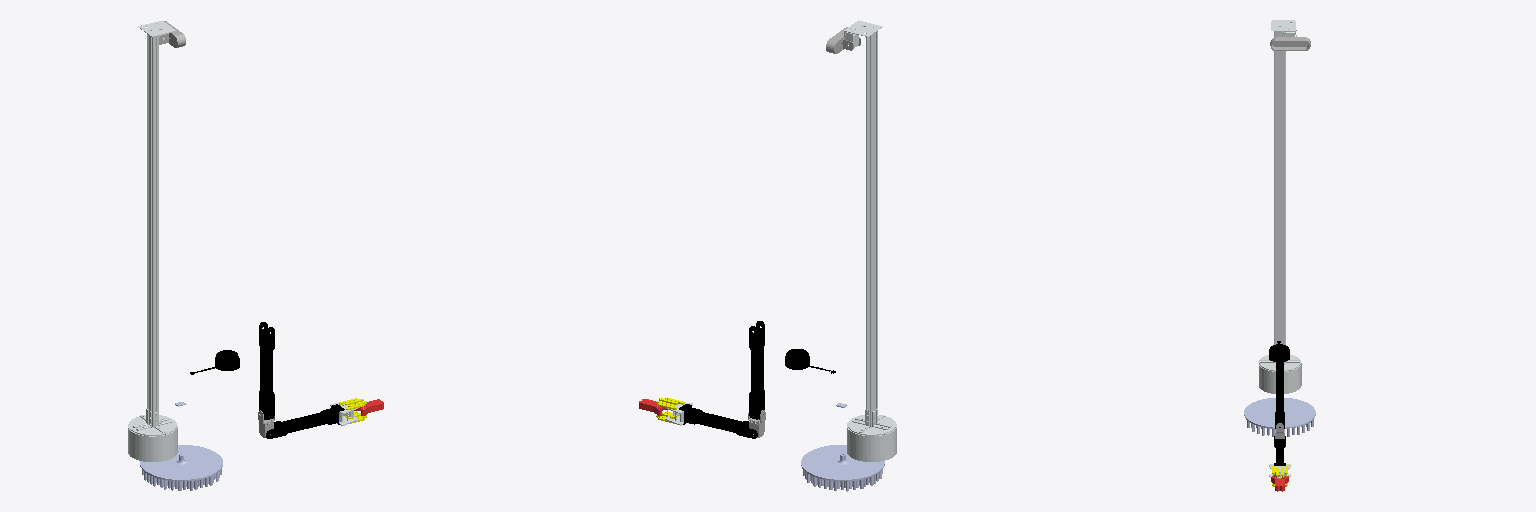
--- Render facts (derived) ---
3 views of the same robot in one strip: view 1: azimuth 30°, elevation 25°; view 2: azimuth 150°, elevation 25°; view 3: azimuth 270°, elevation 25° (orthographic).
Robot: saclebot — 34 links, 33 joints (11 revolute, 5 continuous, 1 prismatic, 16 fixed); root link base_footprint; default pose: every joint at zero.
Visible links, largest first — view 1: shoulder_link, mop_link, R1_link, base_manipulator, R3_link; view 2: shoulder_link, mop_link, R1_link, base_manipulator, R3_link; view 3: shoulder_link, mop_link, base_manipulator, R1_link, camera_head_link.
Boxes of the visible links, left/top/right/bottom form: shoulder_link: left=129, top=21, right=176, bottom=435; mop_link: left=140, top=445, right=222, bottom=490; R1_link: left=259, top=322, right=274, bottom=419; base_manipulator: left=128, top=424, right=177, bottom=461; R3_link: left=266, top=404, right=344, bottom=438; shoulder_link: left=844, top=20, right=895, bottom=435; mop_link: left=801, top=445, right=884, bottom=491; R1_link: left=749, top=321, right=764, bottom=419; base_manipulator: left=847, top=423, right=896, bottom=461; R3_link: left=679, top=404, right=757, bottom=438; shoulder_link: left=1259, top=20, right=1300, bottom=371; mop_link: left=1244, top=398, right=1315, bottom=436; base_manipulator: left=1259, top=360, right=1301, bottom=393; R1_link: left=1273, top=347, right=1286, bottom=428; camera_head_link: left=1270, top=35, right=1310, bottom=50.
Bounding box of the posed robot: 0.8707 × 0.2499 × 1.49 m (x, y, z).
Meshes: 23 distinct files referenced, 16 mesh visuals loaded (16 binary STL); not drawn: 7 (reference not matched to a file when rendering).

The robot description file, URDF, robot "saclebot":
<?xml version="1.0" encoding="utf-8"?>
<!-- URDF FILE GENERATED USING SOLIDWORKS TO URDF PLUGIN-->
<!-- MAINTAINER OF THESE FILES - SaCleBot Team - DIAT-->
<robot name="saclebot">
                                        <!-- SaCleBot Main Assembly - Base link -->
  <link name="base_footprint"/>
  <joint name="base_joint" type="fixed">
    <parent link="base_footprint"/>
    <child link="base_link"/>
    <origin xyz="0 0 0.2575" rpy="0 0 0"/>
  </joint>
  <link name="base_link"> <!-- 2 -->
    <inertial>
      <origin xyz="0.0030962 -0.0067056 -0.034909" rpy="0 0 0" />
      <mass value="9.1505" />
      <inertia ixx="0.10727" ixy="2.8724E-08" ixz="-1.4758E-09" iyy="0.12749" iyz="-1.5157E-09" izz="0.22263" />
    </inertial>
    <visual>
      <origin xyz="0 0 0" rpy="0 0 0" />
      <geometry>
        <mesh filename="package://saclebot_description/meshes/base_link.STL" />
      </geometry>
      <material name="">
        <color rgba="0.75294 0.75294 0.75294 1" />
      </material>
    </visual>
    <collision>
      <origin xyz="0 0 0" rpy="0 0 0" />
      <geometry>
        <mesh filename="package://saclebot_description/meshes/base_link.STL" />
      </geometry>
    </collision>
  </link>
  
                                        <!-- SaCleBot Main Assembly -  manipulator base -->
  <link name="base_manipulator">
    <inertial>
      <origin xyz="3.6943E-05 -0.00021046 -0.054473" rpy="0 0 0" />
      <mass value="2.0728" />
      <inertia ixx="0.0050084" ixy="-1.9505E-06" ixz="-7.9094E-08" iyy="0.0050061" iyz="-1.4746E-07" izz="0.0079066" />
    </inertial>
    <visual>
      <origin xyz="0 0 0" rpy="0 0 0" />
      <geometry>
        <mesh filename="package://saclebot_description/meshes/base_manipulator.STL" />
      </geometry>
      <material name="">
        <color rgba="0.90196 0.92157 0.92157 1" />
      </material>
    </visual>
    <collision>
      <origin xyz="0 0 0" rpy="0 0 0" />
      <geometry>
        <mesh filename="package://saclebot_description/meshes/base_manipulator.STL" />
      </geometry>
    </collision>
  </link>
  <joint name="base_manipulator_joint" type="fixed">
    <origin xyz="-0.1 -0.0074 -0.041" rpy="0 0 0" />
    <parent link="base_link" />
    <child link="base_manipulator" />
    <axis xyz="0 0 0" />
  </joint>
  
                                    <!-- SaCleBot Main Assembly - Shoulder Link-->
  <link name="shoulder_link">
    <inertial>
      <origin xyz="0.002613 0.0018963 0.57866" rpy="0 0 0" />
      <mass value="1.3656" />
      <inertia ixx="0.14581" ixy="-2.7441E-08" ixz="4.5549E-07" iyy="0.14569" iyz="2.9831E-07" izz="0.00073562" />
    </inertial>
    <visual>
      <origin xyz="0 0 0" rpy="0 0 0" />
      <geometry>
        <mesh filename="package://saclebot_description/meshes/shoulder_link.STL" />
      </geometry>
      <material name="">
        <color rgba="0.90196 0.92157 0.92157 1" />
      </material>
    </visual>
    <collision>
      <origin xyz="0 0 0" rpy="0 0 0" />
      <geometry>
        <mesh filename="package://saclebot_description/meshes/shoulder_link.STL" />
      </geometry>
    </collision>
  </link>
  <joint name="shoulder_joint" type="revolute"> 
    <origin xyz="0 0 0" rpy="0 0 0" />
    <parent link="base_manipulator" />
    <child link="shoulder_link" />
    <axis xyz="0 0 1" />
    <limit lower="0" upper="6.28" effort="10" velocity="2" />
  </joint>
<!--                     SaCleBot Main Assembly -                       camera head link                                          - intel real sense D345i-->
  <link name="camera_head_link">
    <inertial>
      <origin xyz="0.0266863314036889 2.22044604925031E-16 0.000112026493455208" rpy="0 0 0" />
      <mass value="0.0867391775901734" />
      <inertia ixx="0.000139401310926024" ixy="1.19728462381674E-19" ixz="2.39021978287873E-07" iyy="0.000132604783307983" iyz="1.22825734973613E-18" izz="2.39344942681729E-05" />
    </inertial>
    <visual>
      <origin xyz="0 0 0" rpy="0 0 0" />
      <geometry>
        <mesh filename="package://saclebot_description/meshes/camera_head_link.STL" />
      </geometry>
      <material name="">
        <color rgba="0.75294 0.75294 0.75294 1" />
      </material>
    </visual>
    <collision>
      <origin xyz="0 0 0" rpy="0 0 0" />
      <geometry>
        <mesh filename="package://saclebot_description/meshes/camera_head_link.STL" />
      </geometry>
    </collision>
  </link>
  <joint name="camera_head_joint" type="revolute"> 
    <origin xyz="0.0475 0.036858 1.2585" rpy="1.5708 0 0" /> <!-- rpy 1.5708-->
    <parent link="shoulder_link" />
    <child link="camera_head_link" />
    <axis xyz="0 0 1" /> <!-- axis -1-->
    <limit
      lower="0"
      upper="1.5708"
      effort="1"
      velocity="1" />
  </joint>
  <!-- camera_link-->
  <link name="camera_screw_frame"/>
  <link name="realsense2_link">
    <inertial>
      <origin xyz="0.00162770944218829 0.00168231639481042 2.480462200527E-06" rpy="0 0 0" />
      <mass value="0.0381911724616097" />
      <inertia ixx="2.3573741102575E-05" ixy="4.51124222897415E-08" ixz="-1.30125577859982E-08" iyy="2.11168828929749E-06" iyz="-8.02388134840679E-09" izz="2.22571079918049E-05" />
    </inertial>
    <visual>
      <origin xyz="0 0 0" rpy="0 0 0" />
      <geometry>
        <mesh filename="package://saclebot_description/meshes/camera_link.dae" />
      </geometry>
      <material
        name="">
        <color rgba="0.752941176470588 0.752941176470588 0.752941176470588 1" />
      </material>
    </visual>
    <collision>
      <origin xyz="0 0 0" rpy="0 0 0" />
      <geometry>
        <mesh filename="package://saclebot_description/meshes/camera_link.dae" />
      </geometry>
    </collision>
  </link>
  
  <joint name="camera_screw_joint" type="fixed">
    <origin xyz="0.041 0 0" rpy = "-1.57079632679491 0 0"/>
    <parent link="camera_head_link"/>
    <child link="camera_screw_frame"/>
  </joint>
  
  <joint name="camera_joint" type="fixed">
    <origin xyz="0 0 0" rpy="0 0 0" />
    <parent link="camera_screw_frame" />
    <child link="realsense2_link" />
    <axis xyz="0 0 0" />
  </joint>
  
  <link name="realsense2_depth_frame" />
  
  <joint name="realsense2_depth_joint" type="fixed">
    <origin xyz="0 0.0175 0" rpy="0 0 0"/>
    <parent link="realsense2_link"/>
    <child link="realsense2_depth_frame"/>
  </joint>
  
  <link name="realsense2_depth_optical_frame" />
  
  <joint name="realsense2_depth_optical_joint" type="fixed">
   <origin xyz="0 0 0" rpy="-1.5708 0 -1.5708"/>
   <parent link="realsense2_depth_frame"/>
   <child link="realsense2_depth_optical_frame"/>
  </joint>
  
  <link name="realsense2_left_ir_frame"/>
  
  <joint name="realsense2_left_ir_joint" type ="fixed">
    <origin xyz = "0 0 0" rpy = "0 0 0"/>
    <parent link="realsense2_depth_frame"/>
    <child link="realsense2_left_ir_frame"/>
  </joint>
  
  <link name="realsense2_left_ir_optical_frame"/>
  
  <joint name="realsense2_left_ir_optical_joint" type ="fixed">
    <origin xyz = "0 0 0" rpy = "-1.5708 0 -1.5708"/>
    <parent link="realsense2_left_ir_frame"/>
    <child link="realsense2_left_ir_optical_frame"/>
  </joint>
  
  <link name="realsense2_right_ir_frame"/>
  
  <joint name="realsense2_right_ir_joint" type ="fixed">
    <origin xyz = "0 -0.050 0" rpy = "0 0 0"/>
    <parent link="realsense2_depth_frame"/>
    <child link="realsense2_right_ir_frame"/>
  </joint>
  
  <link name="realsense2_right_ir_optical_frame"/>
  
  <joint name="realsense2_right_ir_optical_joint" type ="fixed">
    <origin xyz = "0 0 0" rpy = "-1.5708 0 -1.5708"/>
    <parent link="realsense2_right_ir_frame"/>
    <child link="realsense2_right_ir_optical_frame"/>
  </joint>
  
  <link name="realsense2_rgb_frame"/>
  
  <joint name="realsense2_rgb_joint" type ="fixed">
    <origin xyz = "0 0.015 0" rpy = "0 0 0"/>
    <parent link="realsense2_depth_frame"/>
    <child link="realsense2_rgb_frame"/>
  </joint>
  
  <link name="realsense2_rgb_optical_frame"/>
  
  <joint name="realsense2_rgb_optical_joint" type="fixed">
    <origin xyz="0 0 0" rpy = "-1.5708 0 -1.5708"/>
    <parent link = "realsense2_rgb_frame"/>
    <child link = "realsense2_rgb_optical_frame"/>
  </joint>
 
  <link name="realsense2_imu_frame"/>
  <joint name="realsense2_imu_joint" type="fixed">
    <origin xyz="0 0 0" rpy = "0 0 0"/>
    <parent link="realsense2_link"/>
    <child link="realsense2_imu_frame"/>
  </joint>
                                            <!-- SaCleBot Main Assembly - slider link -->
  <link name="slider_link">
    <inertial>
      <origin xyz="0.14315 -0.0088076 -9.8295E-07" rpy="0 0 0" /> 
      <mass value="0.48897" />
      <inertia ixx="0.00048189" ixy="-2.3552E-07" ixz="5.233E-09" iyy="0.0015839" iyz="4.4082E-09" izz="0.001848" />
    </inertial>
    <visual>
      <origin xyz="0 0 0" rpy="0 0 0" />
      <geometry>
        <mesh filename="package://saclebot_description/meshes/slider_link.STL" />
      </geometry>
      <material name="">
        <color rgba="0.75294 0.75294 0.75294 1" />
      </material>
    </visual>
    <collision>
      <origin xyz="0 0 0" rpy="0 0 0" />
      <geometry>
        <mesh filename="package://saclebot_description/meshes/slider_link.STL" />
      </geometry>
    </collision>
  </link>
  <joint name="slider_joint" type="prismatic">
    <origin xyz="0 0.0015673 0.22" rpy="0 0 0" />
    <parent link="shoulder_link" />
    <child link="slider_link" />
    <axis xyz="0 0 1" />
    <limit lower="0.0" upper="1.21" effort="10" velocity="1" />
  </joint>
                                                <!-- SaCleBot Main Assembly -  R1 link-->
  <link name="R1_link">
    <inertial>
      <origin xyz="9.7543E-05 0.15822 -2.0845E-06" rpy="0 0 0" />
      <mass value="0.23058" />
      <inertia ixx="0.00045192" ixy="-2.555E-07" ixz="-5.2331E-09" iyy="6.0722E-05" iyz="-4.4082E-09" izz="0.00043894" />
    </inertial>
    <visual>
      <origin xyz="0 0 0" rpy="0 0 0" />
      <geometry>
        <mesh filename="package://saclebot_description/meshes/R1_link.STL" />
      </geometry>
      <material name="">
        <color rgba="0 0 0 1" />
      </material>
    </visual>
    <collision>
      <origin xyz="0 0 0" rpy="0 0 0" />
      <geometry>
        <mesh filename="package://saclebot_description/meshes/R1_link.STL" />
      </geometry>
    </collision>
  </link>
  <joint name="R1_joint" type="revolute">
    <origin xyz="0.3955 -0.0015673 0" rpy="-1.5708 0 0" />
    <parent link="slider_link" />
    <child link="R1_link" />
    <axis xyz="0 0 1" />
    <limit lower="-3.1416" upper="0" effort="15" velocity="10" />
  </joint>
<!--                SaCleBot Main Assembly -                                                R2 link                                                     -->
  <link name="R2_link">
    <inertial>
      <origin xyz="0.038942 -0.00027273 -5.8282E-06" rpy="0 0 0" />
      <mass value="0.082468" />
      <inertia ixx="1.9042E-05" ixy="2.555E-07" ixz="-4.4082E-09" iyy="2.7005E-05" iyz="5.2331E-09" izz="2.2002E-05" />
    </inertial>
    <visual>
      <origin xyz="0 0 0" rpy="0 0 0" />
      <geometry>
        <mesh filename="package://saclebot_description/meshes/R2_link.STL" />
      </geometry>
      <material name="">
        <color rgba="0.75 0.75 0.75 1" />
      </material>
    </visual>
    <collision>
      <origin xyz="0 0 0" rpy="0 0 0" />
      <geometry>
        <mesh filename="package://saclebot_description/meshes/R2_link.STL" />
      </geometry>
    </collision>
  </link>
  <joint name="R2_joint" type="revolute"> 
    <origin xyz="0 0.276 0" rpy="1.5708 0 1.5708" />
    <parent link="R1_link" />
    <child link="R2_link" />
    <axis xyz="0 0 -1" />
    <limit
      lower="-1.5708"
      upper="1.5708"
      effort="5"
      velocity="5" />
  </joint>
<!--                        SaCleBot Main Assembly -                                     R3 - link-->
  <link name="R3_link">
    <inertial>
      <origin xyz="0.13127 -1.2768E-15 2.8866E-15" rpy="0 0 0" />
      <mass value="0.18243" />
      <inertia ixx="5.6033E-05" ixy="1.0102E-19" ixz="8.8448E-20" iyy="0.00042237" iyz="-1.7059E-20" izz="0.00041561" />
    </inertial>
    <visual>
      <origin xyz="0 0 0" rpy="0 0 0" />
      <geometry>
        <mesh filename="package://saclebot_description/meshes/R3_link.STL" />
      </geometry>
      <material name="">
        <color rgba="0 0 0 1" />
      </material>
    </visual>
    <collision>
      <origin xyz="0 0 0" rpy="0 0 0" />
      <geometry>
        <mesh filename="package://saclebot_description/meshes/R3_link.STL" />
      </geometry>
    </collision>
  </link>
  <joint name="R3_joint" type="revolute"> 
    <origin xyz="0.06 0 0" rpy="-1.5708 -1.5708 0" />
    <parent link="R2_link" />
    <child link="R3_link" />
    <axis xyz="0 0 -1" />
    <limit
      lower="0.0"
      upper="3.1416"
      effort="2"
      velocity="2" />
  </joint>
  <!--                                      SaCleBot Main Assembly                  -       Gripper -->
  <link name="gripper_base_link">
    <inertial>
      <origin xyz="0.00070517 -0.00079249 -0.039763" rpy="0 0 0" />
      <mass value="0.1334" />
      <inertia ixx="2.8688E-05" ixy="-4.4946E-08" ixz="-3.6321E-07" iyy="4.8932E-05" iyz="-4.0469E-08" izz="3.2073E-05" />
    </inertial>
    <visual>
      <origin xyz="0 0 0" rpy="0 0 0" />
      <geometry>
        <mesh filename="package://gripper_description/meshes/gripper_base_link.STL" />
      </geometry>
      <material name="">
        <color rgba="0.90196 0.92157 0.92157 1" />
      </material>
    </visual>
    <collision>
      <origin xyz="0 0 0" rpy="0 0 0" />
      <geometry>
        <mesh filename="package://gripper_description/meshes/gripper_base_link.STL" />
      </geometry>
    </collision>
  </link>
  <joint name="gripper_joint" type="fixed">
    <origin xyz="0.302 0 0" rpy="0 1.5708 0" />
    <parent link="R3_link" />
    <child link="gripper_base_link" />
    <axis xyz="0 0 1" />
  </joint>
  <link name="left_actuator">
    <inertial>
      <origin xyz="0.03452 -2.9837E-16 0.0013795" rpy="0 0 0" />
      <mass value="0.013052" />
      <inertia ixx="1.1549E-06" ixy="-3.5645E-22" ixz="-3.3818E-21" iyy="3.1196E-06" iyz="3.4195E-22" izz="2.1584E-06" />
    </inertial>
    <visual>
      <origin xyz="0 0 0" rpy="0 0 0" />
      <geometry>
        <mesh filename="package://gripper_description/meshes/left_actuator.STL" />
      </geometry>
      <material name="">
        <color rgba="1 1 0 1" />
      </material>
    </visual>
    <collision>
      <origin xyz="0 0 0" rpy="0 0 0" />
      <geometry>
        <mesh filename="package://gripper_description/meshes/left_actuator.STL" />
      </geometry>
    </collision>
  </link>
  <joint name="left_act_joint" type="revolute">
    <origin xyz="0.01 0 -0.02" rpy="-1.5708 -1.5708 0" />
    <parent link="gripper_base_link" />
    <child link="left_actuator" />
    <axis xyz="0 0 1" />
    <limit lower="0" upper="1.5708" effort="1" velocity="1" />
  </joint>
  <link name="rocker_left_link">
    <inertial>
      <origin xyz="-0.00076233 0.021677 3.747E-16" rpy="0 0 0" />
      <mass value="0.028086" />
      <inertia ixx="1.617E-05" ixy="-2.1715E-06" ixz="5.0364E-22" iyy="2.1438E-06" iyz="3.6038E-21" izz="1.6459E-05" />
    </inertial>
    <visual>
      <origin xyz="0 0 0" rpy="0 0 0" />
      <geometry>
        <mesh filename="package://gripper_description/meshes/rocker_left_link.STL" />
      </geometry>
      <material name="">
        <color rgba="0.95 0.25 0.25 1" />
      </material>
    </visual>
    <collision>
      <origin xyz="0 0 0" rpy="0 0 0" />
      <geometry>
        <mesh filename="package://gripper_description/meshes/rocker_left_link.STL" />
      </geometry>
    </collision>
  </link>
  <joint name="rocker_left_joint" type="revolute">
    <origin xyz="0.055 0 0" rpy="0 0 -1.5708" />
    <parent link="left_actuator" />
    <child link="rocker_left_link" />
    <axis xyz="0 0 1" />
    <limit lower="-3.1415926" upper="3.1415926" effort="1" velocity="1" />
    <mimic joint="left_act_joint" multiplier="-1" offset="0" />
  </joint>
  <link name="right_actuator">
    <inertial>
      <origin xyz="0.033438 -2.8927E-16 0.0010856" rpy="0 0 0" />
      <mass value="0.013474" />
      <inertia ixx="1.3401E-06" ixy="-6.3169E-21" ixz="-3.5833E-21" iyy="3.3048E-06" iyz="1.1622E-21" izz="2.1593E-06" />
    </inertial>
    <visual>
      <origin xyz="0 0 0" rpy="0 0 0" />
      <geometry>
        <mesh filename="package://gripper_description/meshes/right_actuator.STL" />
      </geometry>
      <material name="">
        <color rgba="1 1 0 1" />
      </material>
    </visual>
    <collision>
      <origin xyz="0 0 0" rpy="0 0 0" />
      <geometry>
        <mesh filename="package://gripper_description/meshes/right_actuator.STL" />
      </geometry>
    </collision>
  </link>
  <joint name="right_act_joint" type="revolute">
    <origin xyz="-0.01 0 -0.02" rpy="-1.5708 -1.5708 0" />
    <parent link="gripper_base_link" />
    <child link="right_actuator" />
    <axis xyz="0 0 1" />
    <limit lower="-1.5708" upper="0" effort="1" velocity="1" />    <mimic joint="left_act_joint" multiplier="-1" offset="0" />
  </joint>
  <link name="rocker_right_link">
    <inertial>
      <origin xyz="-0.00076233 -0.021677 -8.3267E-17" rpy="0 0 0" />
      <mass value="0.028086" />
      <inertia ixx="1.617E-05" ixy="2.1715E-06" ixz="7.6236E-21" iyy="2.1438E-06" iyz="-5.0363E-20" izz="1.6459E-05" />
    </inertial>
    <visual>
      <origin xyz="0 0 0" rpy="0 0 0" />
      <geometry>
        <mesh filename="package://gripper_description/meshes/rocker_right_link.STL" />
      </geometry>
      <material name="">
        <color rgba="0.95 0.25 0.25 1" />
      </material>
    </visual>
    <collision>
      <origin xyz="0 0 0" rpy="0 0 0" />
      <geometry>
        <mesh filename="package://gripper_description/meshes/rocker_right_link.STL" />
      </geometry>
    </collision>
  </link>
  <joint name="rocker_right_joint" type="revolute">
    <origin xyz="0.055 0 0" rpy="0 0 1.5708" />
    <parent link="right_actuator" />
    <child link="rocker_right_link" />
    <axis xyz="0 0 1" />
    <limit lower="-3.1415926" upper="3.1415926" effort="1" velocity="1" />
    <mimic joint="right_act_joint" multiplier="-1" offset="0" />
  </joint>
  <link name="crank_left_link">
    <inertial>
      <origin xyz="0.0275 6.9389E-18 -0.00030296" rpy="0 0 0" />
      <mass value="0.016384" />
      <inertia ixx="2.1456E-06" ixy="-3.7323E-22" ixz="1.8204E-22" iyy="4.1103E-06" iyz="4.9406E-25" izz="2.0926E-06" />
    </inertial>
    <visual>
      <origin xyz="0 0 0" rpy="0 0 0" />
      <geometry>
        <mesh filename="package://gripper_description/meshes/crank_left_link.STL" />
      </geometry>
      <material name="">
        <color rgba="1 1 0 1" />
      </material>
    </visual>
    <collision>
      <origin xyz="0 0 0" rpy="0 0 0" />
      <geometry>
        <mesh filename="package://gripper_description/meshes/crank_left_link.STL" />
      </geometry>
    </collision>
  </link>
  <joint name="crank_left_joint" type="revolute">
    <origin xyz="0.022 0 -0.035" rpy="1.5708 -1.5708 0" />
    <parent link="gripper_base_link" />
    <child link="crank_left_link" />
    <axis xyz="0 0 -1" />
    <limit lower="-3.1415926" upper="3.1415926" effort="1.0" velocity="1.0" />
    <mimic joint="left_act_joint" multiplier="1" offset="0" />
  </joint>
  <link name="crank_right_link">
    <inertial>
      <origin xyz="0.0275 5.2042E-18 -0.00030296" rpy="0 0 0" />
      <mass value="0.016384" />
      <inertia ixx="2.1456E-06" ixy="-1.611E-22" ixz="1.8194E-22" iyy="4.1103E-06" iyz="-9.5995E-26" izz="2.0926E-06" />
    </inertial>
    <visual>
      <origin xyz="0 0 0" rpy="0 0 0" />
      <geometry>
        <mesh filename="package://gripper_description/meshes/crank_right_link.STL" />
      </geometry>
      <material name="">
        <color rgba="1 1 0 1" />
      </material>
    </visual>
    <collision>
      <origin
        xyz="0 0 0"
        rpy="0 0 0" />
      <geometry>
        <mesh
          filename="package://gripper_description/meshes/crank_right_link.STL" />
      </geometry>
    </collision>
  </link>
  <joint name="crank_right_joint" type="revolute">
    <origin xyz="-0.022 0 -0.035" rpy="1.5708 -1.5708 0" />
    <parent link="gripper_base_link" />
    <child link="crank_right_link" />
    <axis xyz="0 0 -1" />
    <limit lower="-3.1415926" upper="3.1415926" effort="1" velocity="1" />
    <mimic joint="left_act_joint" multiplier="-1" offset="0" />
  </joint>
  <!--                              SaCleBot Main Assembly                  imu link                    -->
  <link name="nxp_imu_link">
    <inertial>
      <origin xyz="-9.29811783123569E-16 -1.22124532708767E-15 0.0015" rpy="0 0 0" />
      <mass value="0.00167768920715673" />
      <inertia ixx="5.77688933946281E-08" ixy="-2.42338070084007E-24" ixz="2.16074504319118E-24" iyy="1.0795187605053E-07" iyz="-5.63644326339606E-22" izz="1.63204235634423E-07" />
    </inertial>
    <visual>
      <origin xyz="0 0 0" rpy="0 0 0" />
      <geometry>
        <mesh filename="package://saclebot_description/meshes/nxp_imu_link.STL" />
      </geometry>
      <material name="">
        <color rgba="0.792156862745098 0.819607843137255 0.933333333333333 1" />
      </material>
    </visual>
    <collision>
      <origin xyz="0 0 0" rpy="0 0 0" />
      <geometry>
        <mesh filename="package://saclebot_description/meshes/nxp_imu_link.STL" />
      </geometry>
    </collision>
  </link>
  <joint name="nxp_imu_joint" type="fixed">
    <origin xyz="0 0 0" rpy="0 0 0" />
    <parent link="base_link" />
    <child link="nxp_imu_link" />
  </joint>
  <!-- RP-LiDAR A3M1 -->
  <link name="RP_LiDAR_A3M1_link">
    <inertial>
      <origin xyz="0.0017336 -0.00015015 -0.012532" rpy="0 0 0" />
      <mass value="0.0466" />
      <inertia ixx="1.9742E-05" ixy="3.5144E-07" ixz="5.369E-08" iyy="1.5765E-05" iyz="8.0776E-08" izz="3.3885E-05" />
    </inertial>
    <visual>
      <origin xyz="0 0 0" rpy="0 0 0" />
      <geometry>
        <mesh filename="package://saclebot_description/meshes/RP_LiDAR_A3M1_link.STL" />
      </geometry>
      <material name="">
        <color rgba="0 0 0 1" />
      </material>
    </visual>
    <collision>
      <origin xyz="0 0 0" rpy="0 0 0" />
      <geometry>
        <mesh filename="package://saclebot_description/meshes/RP_LiDAR_A3M1_link.STL" />
      </geometry>
    </collision>
  </link>
  <joint name="RP_LiDAR_A3M1_joint" type="fixed">
    <origin xyz="0.15749 -0.0096 0.126" rpy="0 0 -3.1416" />
    <parent link="base_link" />
    <child link="RP_LiDAR_A3M1_link" />
    <axis xyz="0 0 0" />
  </joint>
  <!-- mop link-->
  <link name="mop_link">
    <inertial>
      <origin xyz="-1.3878E-17 5.5511E-17 0.073689" rpy="0 0 0" />
      <mass value="0.69632" />
      <inertia ixx="0.0027039" ixy="-2.8718E-07" ixz="-1.0429E-18" iyy="0.0026961" iyz="-3.6127E-19" izz="0.0051735" />
    </inertial>
    <visual>
      <origin xyz="0 0 0" rpy="0 0 0" />
      <geometry>
        <mesh filename="package://saclebot_description/meshes/mop_link.STL" />
      </geometry>
      <material name="">
        <color rgba="0.79216 0.81961 0.93333 1" />
      </material>
    </visual>
    <collision>
      <origin xyz="0 0 0" rpy="0 0 0" />
      <geometry>
        <mesh filename="package://saclebot_description/meshes/mop_link.STL" />
      </geometry>
    </collision>
  </link>
  <joint name="mop_joint" type="continuous">
    <origin xyz="0 -0.0074 -0.13" rpy="-3.1416 0 0" />
    <parent link="base_link" />
    <child link="mop_link" />
    <axis xyz="0 0 1" />
  </joint>
  <!-- front right wheel -->
  <link name="frontRightWheel_link">
    <inertial>
      <origin xyz="-5.3092E-08 3.5546E-07 -0.0080247" rpy="0 0 0" />
      <mass value="0.56724" />
      <inertia ixx="0.00015559" ixy="-1.9763E-10" ixz="5.3614E-10" iyy="0.00015559" iyz="8.1761E-11" izz="0.00023277" />
    </inertial>
    <visual>
      <origin xyz="0 0 0" rpy="0 0 0" />
      <geometry>
        <mesh filename="package://saclebot_description/meshes/frontRightWheel_link.STL" />
      </geometry>
      <material name="">
        <color rgba="0.75294 0.75294 0.75294 1" />
      </material>
    </visual>
    <collision>
      <origin xyz="0 0 0" rpy="0 0 0" />
      <geometry>
        <mesh filename="package://saclebot_description/meshes/frontRightWheel_link.STL" />
      </geometry>
    </collision>
  </link>
  <joint name="frontRightWheel_joint" type="continuous">
    <origin xyz="0.2 -0.23554 -0.2075" rpy="1.5708 0 0" />
    <parent link="base_link" />
    <child link="frontRightWheel_link" />
    <axis xyz="0 0 -1" />
  </joint>
  <!-- rear right wheel-->
  <link name="rearRightWheel_link">
    <inertial>
      <origin xyz="-1.1869E-07 1.9139E-07 -0.0080203" rpy="0 0 0" />
      <mass value="0.56731" />
      <inertia ixx="0.00015564" ixy="-2.1284E-09" ixz="-1.7736E-10" iyy="0.00015564" iyz="-1.0947E-10" izz="0.00023285" />
    </inertial>
    <visual>
      <origin xyz="0 0 0" rpy="0 0 0" />
      <geometry>
        <mesh filename="package://saclebot_description/meshes/rearRightWheel_link.STL" />
      </geometry>
      <material name="">
        <color rgba="0.75294 0.75294 0.75294 1" />
      </material>
    </visual>
    <collision>
      <origin xyz="0 0 0" rpy="0 0 0" />
      <geometry>
        <mesh filename="package://saclebot_description/meshes/rearRightWheel_link.STL" />
      </geometry>
    </collision>
  </link>
  <joint name="rearRightWheel_joint" type="continuous">
    <origin xyz="-0.2 -0.23554 -0.2075" rpy="1.5708 0 0" />
    <parent link="base_link" />
    <child link="rearRightWheel_link" />
    <axis xyz="0 0 -1" />
  </joint>
  <!-- front left wheel -->
  <link name="frontLeftWheel_link">
    <inertial>
      <origin xyz="5.8442E-08 -2.1845E-07 -0.0080203" rpy="0 0 0" />
      <mass value="0.56731" />
      <inertia ixx="0.00015563" ixy="-1.1896E-09" ixz="2.0113E-10" iyy="0.00015564" iyz="5.4355E-11" izz="0.00023285" />
    </inertial>
    <visual>
      <origin xyz="0 0 0" rpy="0 0 0" />
      <geometry>
        <mesh filename="package://saclebot_description/meshes/frontLeftWheel_link.STL" />
      </geometry>
      <material name="">
        <color rgba="0.75294 0.75294 0.75294 1" />
      </material>
    </visual>
    <collision>
      <origin xyz="0 0 0" rpy="0 0 0" />
      <geometry>
        <mesh filename="package://saclebot_description/meshes/frontLeftWheel_link.STL" />
      </geometry>
    </collision>
  </link>
  <joint name="frontLeftWheel_joint" type="continuous">
    <origin xyz="0.2 0.22074 -0.2075" rpy="-1.5708 0 0" />
    <parent link="base_link" />
    <child link="frontLeftWheel_link" />
    <axis xyz="0 0 1" />
  </joint>
  <!-- rear left wheel -->
  <link name="rearLeftWheel_link">
    <inertial>
      <origin xyz="-3.3704E-07 1.1934E-07 -0.0080247" rpy="0 0 0" />
      <mass value="0.56724" />
      <inertia ixx="0.00015559" ixy="-4.2497E-10" ixz="1.8011E-10" iyy="0.00015559" iyz="5.1085E-10" izz="0.00023277" />
    </inertial>
    <visual>
      <origin xyz="0 0 0" rpy="0 0 0" />
      <geometry>
        <mesh filename="package://saclebot_description/meshes/rearLeftWheel_link.STL" />
      </geometry>
      <material name="">
        <color rgba="0.75294 0.75294 0.75294 1" />
      </material>
    </visual>
    <collision>
      <origin xyz="0 0 0" rpy="0 0 0" />
      <geometry>
        <mesh filename="package://saclebot_description/meshes/rearLeftWheel_link.STL" />
      </geometry>
    </collision>
  </link>
  <joint name="rearLeftWheel_joint" type="continuous">
    <origin xyz="-0.2 0.22074 -0.2075" rpy="-1.5708 0 0" />
    <parent link="base_link" />
    <child link="rearLeftWheel_link" />
    <axis xyz="0 0 1" />
  </joint>
  
  <!-- Gazebo elements-->
  
  <gazebo>
		<plugin name="gazebo_ros_control" filename="libgazebo_ros_control.so"/>
  </gazebo>
  <!-- gazebo references for links-->
  <gazebo reference="left_actuator">
    <kp>10000.0</kp>
    <kd>1000.0</kd>
  	<mu1>0.2</mu1>
    <mu2>0.2</mu2>
    <material>Gazebo/Yellow</material>
  </gazebo>
  <gazebo reference="crank_left_link">
    <kp>10000.0</kp>
    <kd>1000.0</kd>
  	<mu1>0.2</mu1>
    <mu2>0.2</mu2>
    <material>Gazebo/Yellow</material>
  </gazebo>
  <gazebo reference="rocker_left_link">
    <kp>10000.0</kp>
    <kd>1000.0</kd>
  	<mu1>0.2</mu1>
    <mu2>0.2</mu2>
    <material>Gazebo/Red</material>
  </gazebo>
  <gazebo reference="right_actuator">
    <kp>10000.0</kp>
    <kd>1000.0</kd>
  	<mu1>0.2</mu1>
    <mu2>0.2</mu2>
    <material>Gazebo/Yellow</material>
  </gazebo>
  <gazebo reference="crank_right_link">
    <kp>10000.0</kp>
    <kd>1000.0</kd>
  	<mu1>0.2</mu1>
    <mu2>0.2</mu2>
    <material>Gazebo/Yellow</material>
  </gazebo>
  <gazebo reference="rocker_right_link">
    <kp>10000.0</kp>
    <kd>1000.0</kd>
  	<mu1>0.2</mu1>
    <mu2>0.2</mu2>
    <material>Gazebo/Red</material>
  </gazebo>
  <gazebo reference="shoulder_link">
    <kp>10000.0</kp>
    <kd>1000.0</kd>
    <mu1>0.2</mu1>
    <mu2>0.2</mu2>
  </gazebo>  
  <gazebo reference="slider_link">
    <kp>10000.0</kp>
    <kd>1000.0</kd>
  	<mu1>0.2</mu1>
    <mu2>0.2</mu2>
    <material>Gazebo/Red</material>
  </gazebo>
  
  <!-- Gazebo sensor links-->
  <gazebo reference="nxp_imu_link">
    <gravity>true</gravity>
    <sensor name="imu_sensor" type="imu">
      <always_on>true</always_on>
      <update_rate>100</update_rate>
      <visualize>true</visualize>
      <topic>imu</topic>
      <plugin filename="libgazebo_ros_imu_sensor.so" name="imu_plugin">
        <topicName>imu</topicName>
        <bodyName>nxp_imu_link</bodyName>
        <updateRateHZ>100.0</updateRateHZ>
        <gaussianNoise>0.05</gaussianNoise>
        <xyzOffset>0 0 0</xyzOffset>
        <rpyOffset>0 0 0</rpyOffset>
        <frameName>nxp_imu_link</frameName>
        <initialOrientationAsReference>false</initialOrientationAsReference>
      </plugin>
      <pose>0 0 0 0 0 0</pose>
    </sensor>
  </gazebo>
  
  <gazebo reference="realsense2_imu_frame">
    <gravity>true</gravity>
    <sensor name="imu_sensor_realsense" type="imu">
      <always_on>true</always_on>
      <update_rate>100</update_rate>
      <visualize>true</visualize>
      <topic>realsense2/imu</topic>
      <plugin filename="libgazebo_ros_imu_sensor.so" name="imu_plugin">
        <topicName>realsense2/imu</topicName>
        <bodyName>realsense2_imu_frame</bodyName>
        <updateRateHZ>100.0</updateRateHZ>
        <gaussianNoise>0.05</gaussianNoise>
        <xyzOffset>0 0 0</xyzOffset>
        <rpyOffset>0 0 0</rpyOffset>
        <frameName>realsense2_imu_frame</frameName>
        <initialOrientationAsReference>false</initialOrientationAsReference>
      </plugin>
      <pose>0 0 0 0 0 0</pose>
    </sensor>
  </gazebo>
  
  <gazebo reference="realsense2_link">
    <self_collide>0</self_collide>
    <enable_wind>0</enable_wind>
    <kinematic>0</kinematic>
    <gravity>1</gravity>
    <mu2>1</mu2>
    <fdir1>0 0 0</fdir1>
    <kp>1e+13</kp>
    <kd>1</kd>
    <sensor name="realsense2_color" type="camera">
        <camera name="realsense2">
            <horizontal_fov>1.211258501</horizontal_fov>
            <image>
                <width>1920</width>
                <height>1080</height>
                <format>RGB_INT8</format>
            </image>
            <clip>
                <near>0.1</near>
                <far>1000</far>
            </clip>
            <noise>
                <type>gaussian</type>
                <mean>0.0</mean>
                <stddev>0.007</stddev>
            </noise>
        </camera>
        <always_on>1</always_on>
        <update_rate>50</update_rate>
        <visualize>0</visualize>
    </sensor>
    <sensor name="realsense2_ired1" type="camera">
        <camera name="realsense2">
            <horizontal_fov>1.487020523</horizontal_fov>
            <image>
                <width>1280</width>
                <height>720</height>
                <format>L_INT8</format>
            </image>
            <clip>
                <near>0.1</near>
                <far>1000.0</far>
            </clip>
            <noise>
                <type>gaussian</type>
                <mean>0.0</mean>
                <stddev>0.05</stddev>
            </noise>
        </camera>
        <always_on>1</always_on>
        <update_rate>100</update_rate>
        <visualize>0</visualize>
    </sensor>
    <sensor name="realsense2_ired2" type="camera">
        <camera name="realsense2">
            <horizontal_fov>1.487020523</horizontal_fov>
            <image> 
                <width>1280</width>
                <height>720</height>
                <format>L_INT8</format>
            </image>
            <clip>
                <near>0.1</near>
                <far>1000.0</far>
            </clip>
            <noise>
                <type>gaussian</type>
                <mean>0.0</mean>
                <stddev>0.05</stddev>
            </noise>
        </camera>
        <always_on>1</always_on>
        <update_rate>100</update_rate>
        <visualize>0</visualize>
    </sensor>
    <sensor name="realsense2_depth" type="depth">
        <camera name="realsense2">
            <horizontal_fov>1.487020523</horizontal_fov>
            <image> 
                <width>1280</width>
                <height>720</height>
                <format>L_INT8</format>
            </image>
            <clip>
                <near>0.1</near>
                <far>1000.0</far>
            </clip>
            <noise>
                <type>gaussian</type>
                <mean>0.0</mean>
                <stddev>0.100</stddev>
            </noise>
        </camera>
        <always_on>1</always_on>
        <update_rate>100</update_rate>
        <visualize>0</visualize>
        <plugin name="kinect_controller" filename="libgazebo_ros_openni_kinect.so">
            <alwaysOn>true</alwaysOn>
            <updateRate>10.0</updateRate>
            <cameraName>realsense2_d435i</cameraName>
            <frameName>realsense2_depth_optical_frame</frameName>
            <imageTopicName>rgb/image_raw</imageTopicName>
            <depthImageTopicName>depth/image_raw</depthImageTopicName>
            <pointCloudTopicName>depth/points</pointCloudTopicName>
            <cameraInfoTopicName>rgb/camera_info</cameraInfoTopicName>
            <depthImageCameraInfoTopicName>depth/camera_info</depthImageCameraInfoTopicName>
            <pointCloudCutoff>0.4</pointCloudCutoff>
            <hackBaseline>0.07</hackBaseline>
            <distortionK1>0.0</distortionK1>
            <distortionK2>0.0</distortionK2>
            <distortionK3>0.0</distortionK3>
            <distortionT1>0.0</distortionT1>
            <distortionT2>0.0</distortionT2>
            <CxPrime>0.0</CxPrime>
            <Cx>0.0</Cx>
            <Cy>0.0</Cy>
            <focalLength>0.0</focalLength>
        </plugin>
    </sensor>  
  </gazebo>
  <gazebo>
    <plugin name="meccanum_ros_force_based_move" filename="libnexus_ros_force_based_move.so">
      <commandTopic>cmd_vel</commandTopic>
      <odometryTopic>odom</odometryTopic>
      <odometryFrame>odom</odometryFrame>
      <odometryRate>25.0</odometryRate>
      <robotBaseFrame>base_footprint</robotBaseFrame>
      <cmdVelTimeOut>0.25</cmdVelTimeOut>
      <publishOdometryTf>1</publishOdometryTf>
      <yaw_velocity_p_gain>1.0</yaw_velocity_p_gain>
      <x_velocity_p_gain>15.0</x_velocity_p_gain>
      <y_velocity_p_gain>15.0</y_velocity_p_gain>
      <max_x_velocity>0.6</max_x_velocity>
      <max_y_velocity>0.6</max_y_velocity>
      <max_yaw_velocity>0.5</max_yaw_velocity>
    </plugin>
  </gazebo>
  
        
        
  <gazebo reference="RP_LiDAR_A3M1_link">
    <sensor type="ray" name="head_rplidar_sensor">
      <pose>0 0 0.06 0 0 0</pose>
      <visualize>false</visualize>
      <update_rate>40</update_rate>
      <ray>
        <scan>
          <horizontal>
            <samples>720</samples>
            <resolution>1</resolution>
            <min_angle>-3.054326190990077</min_angle>
            <max_angle>3.054326190990077</max_angle>
          </horizontal>
        </scan>
        <range>
          <min>0.2</min>
          <max>25.0</max>
          <resolution>0.01</resolution>
        </range>
        <noise>
          <type>gaussian</type>
          <mean>0.0</mean>
          <stddev>0.01</stddev>
        </noise>
      </ray>
      <plugin name="gazebo_ros_head_rplidar_controller" filename="libgazebo_ros_laser.so">
        <topicName>scan</topicName>
        <frameName>RP_LiDAR_A3M1_link</frameName>
      </plugin>
    </sensor>
  </gazebo>
  
  <transmission name="trans1">
        <type>transmission_interface/SimpleTransmission</type>
        <joint name="frontRightWheel_joint">
            <hardwareInterface>hardware_interface/EffortJointInterface</hardwareInterface>
        </joint>
        <actuator name="motor1">
            <hardwareInterface>hardware_interface/EffortJointInterface</hardwareInterface>
            <mechanicalReduction>1</mechanicalReduction>
        </actuator>
  </transmission>
  
  <transmission name="trans2">
        <type>transmission_interface/SimpleTransmission</type>
        <joint name="frontLeftWheel_joint">
            <hardwareInterface>hardware_interface/EffortJointInterface</hardwareInterface>
        </joint>
        <actuator name="motor2">
            <hardwareInterface>hardware_interface/EffortJointInterface</hardwareInterface>
            <mechanicalReduction>1</mechanicalReduction>
        </actuator>
  </transmission>
  
  <transmission name="trans3">
        <type>transmission_interface/SimpleTransmission</type>
        <joint name="rearRightWheel_joint">
            <hardwareInterface>hardware_interface/EffortJointInterface</hardwareInterface>
        </joint>
        <actuator name="motor3">
            <hardwareInterface>hardware_interface/EffortJointInterface</hardwareInterface>
            <mechanicalReduction>1</mechanicalReduction>
        </actuator>
  </transmission>
  
  <transmission name="trans4">
        <type>transmission_interface/SimpleTransmission</type>
        <joint name="rearLeftWheel_joint">
            <hardwareInterface>hardware_interface/EffortJointInterface</hardwareInterface>
        </joint>
        <actuator name="motor4">
            <hardwareInterface>hardware_interface/EffortJointInterface</hardwareInterface>
            <mechanicalReduction>1</mechanicalReduction>
        </actuator>
  </transmission>
  
  <transmission name="trans5">
        <type>transmission_interface/SimpleTransmission</type>
        <joint name="shoulder_joint">
            <hardwareInterface>hardware_interface/EffortJointInterface</hardwareInterface>
        </joint>
        <actuator name="motor5">
            <hardwareInterface>hardware_interface/EffortJointInterface</hardwareInterface>
            <mechanicalReduction>1</mechanicalReduction>
        </actuator>
  </transmission>
  
  <transmission name="trans6">
        <type>transmission_interface/SimpleTransmission</type>
        <joint name="slider_joint">
            <hardwareInterface>hardware_interface/EffortJointInterface</hardwareInterface>
        </joint>
        <actuator name="motor6">
            <hardwareInterface>hardware_interface/EffortJointInterface</hardwareInterface>
            <mechanicalReduction>1</mechanicalReduction>
        </actuator>
  </transmission>-
  
  <transmission name="trans7">
        <type>transmission_interface/SimpleTransmission</type>
        <joint name="R1_joint">
            <hardwareInterface>hardware_interface/EffortJointInterface</hardwareInterface>
        </joint>
        <actuator name="motor7">
            <hardwareInterface>hardware_interface/EffortJointInterface</hardwareInterface>
            <mechanicalReduction>1</mechanicalReduction>
        </actuator>
  </transmission>
  
  <transmission name="trans8">
        <type>transmission_interface/SimpleTransmission</type>
        <joint name="R2_joint">
            <hardwareInterface>hardware_interface/EffortJointInterface</hardwareInterface>
        </joint>
        <actuator name="motor8">
            <hardwareInterface>hardware_interface/EffortJointInterface</hardwareInterface>
            <mechanicalReduction>1</mechanicalReduction>
        </actuator>
  </transmission>
  
  <transmission name="trans9">
        <type>transmission_interface/SimpleTransmission</type>
        <joint name="R3_joint">
            <hardwareInterface>hardware_interface/EffortJointInterface</hardwareInterface>
        </joint>
        <actuator name="motor9">
            <hardwareInterface>hardware_interface/EffortJointInterface</hardwareInterface>
            <mechanicalReduction>1</mechanicalReduction>
        </actuator>
  </transmission>
  
  <transmission name="trans10">
        <type>transmission_interface/SimpleTransmission</type>
        <joint name="left_act_joint">
            <hardwareInterface>hardware_interface/EffortJointInterface</hardwareInterface>
        </joint>
        <actuator name="motor10">
            <hardwareInterface>hardware_interface/EffortJointInterface</hardwareInterface>
            <mechanicalReduction>1</mechanicalReduction>
        </actuator>
  </transmission>
  
  <transmission name="trans11">
        <type>transmission_interface/SimpleTransmission</type>
        <joint name="camera_head_joint">
            <hardwareInterface>hardware_interface/EffortJointInterface</hardwareInterface>
        </joint>
        <actuator name="motor11">
            <hardwareInterface>hardware_interface/EffortJointInterface</hardwareInterface>
            <mechanicalReduction>1</mechanicalReduction>
        </actuator>
  </transmission>
  
  <transmission name="trans12">
        <type>transmission_interface/SimpleTransmission</type>
        <joint name="mop_joint">
            <hardwareInterface>hardware_interface/EffortJointInterface</hardwareInterface>
        </joint>
        <actuator name="motor12">
            <hardwareInterface>hardware_interface/EffortJointInterface</hardwareInterface>
            <mechanicalReduction>1</mechanicalReduction>
        </actuator>
  </transmission>
  
  <gazebo>
  	<plugin name="rocker_left_joint_plugin" filename="libroboticsgroup_upatras_gazebo_mimic_joint_plugin.so">
  		<joint> left_act_joint</joint>
  		<mimicJoint>rocker_left_joint</mimicJoint>
  		<multiplier>-1.0</multiplier>
  		<offset>0.0</offset>
  	</plugin>
  </gazebo>
  <gazebo>
  	<plugin name="right_act_joint_plugin" filename="libroboticsgroup_upatras_gazebo_mimic_joint_plugin.so">
  		<joint> left_act_joint</joint>
  		<mimicJoint>right_act_joint</mimicJoint>
  		<multiplier>-1.0</multiplier>
  		<offset>0.0</offset>
  	</plugin>
  </gazebo>
  <gazebo>
  	<plugin name="rocker_right_joint_plugin" filename="libroboticsgroup_upatras_gazebo_mimic_joint_plugin.so">
  		<joint> right_act_joint</joint>
  		<mimicJoint>rocker_right_joint</mimicJoint>
  		<multiplier>-1.0</multiplier>
  		<offset>0.0</offset>
  	</plugin>
  </gazebo>
  <gazebo>
  	<plugin name="crank_left_joint_plugin" filename="libroboticsgroup_upatras_gazebo_mimic_joint_plugin.so">
  		<joint> left_act_joint</joint>
  		<mimicJoint>crank_left_joint</mimicJoint>
  		<multiplier>1.0</multiplier>
  		<offset>0.0</offset>
  	</plugin>
  </gazebo>
  <gazebo>
  	<plugin name="crank_right_joint_plugin" filename="libroboticsgroup_upatras_gazebo_mimic_joint_plugin.so">
  		<joint> left_act_joint</joint>
  		<mimicJoint>crank_right_joint</mimicJoint>
  		<multiplier>-1.0</multiplier>
  		<offset>0.0</offset>
  	</plugin>
  </gazebo>
</robot>
